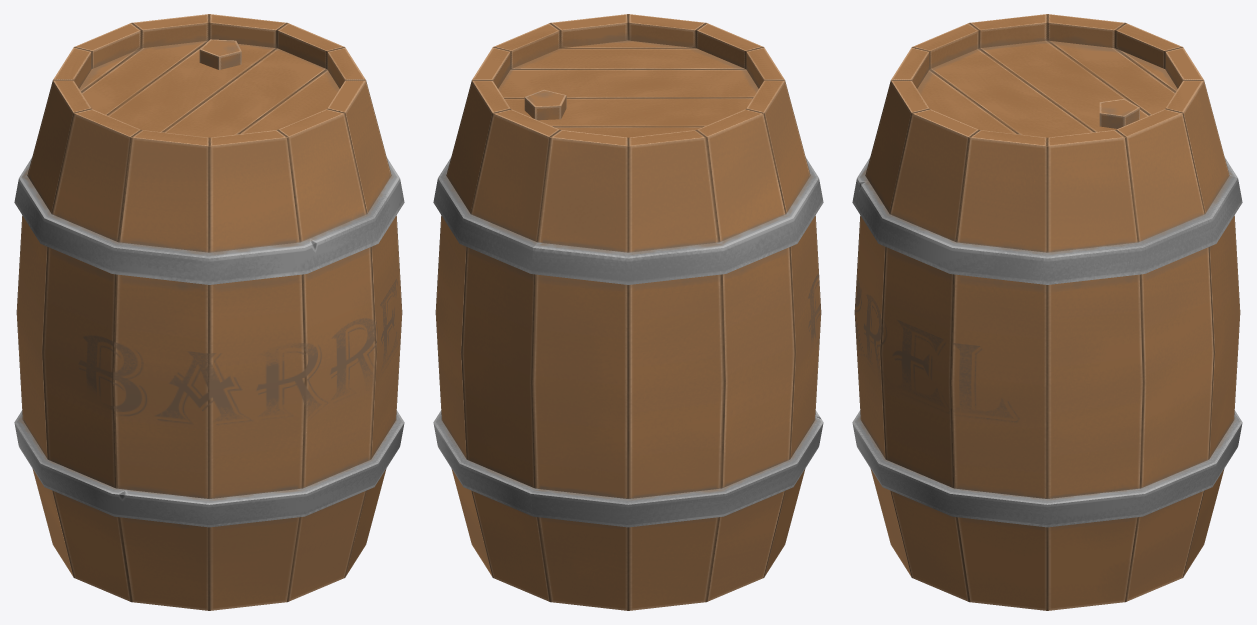
Rendered from Barrel.fbx.
3 renders of one model, left to right at view 1: azimuth 30°, elevation 25°; view 2: azimuth 150°, elevation 25°; view 3: azimuth 270°, elevation 25°, orthographic.
Parts seen in each view (by area): view 1: Barrel; view 2: Barrel; view 3: Barrel.
Boxes of the visible parts, <box> form: Barrel: <box>14,14,404,610</box>; Barrel: <box>433,14,823,610</box>; Barrel: <box>852,14,1242,610</box>.
Bounding box in the file's own units: 68.51 × 90 × 68.51.
